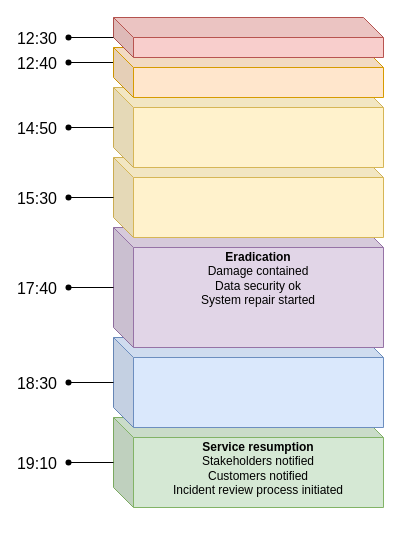
This 401x544 diagram has some shape labels left out. Each missing label, with the centre of its shape:
"Analysis Impact assessed Causes identified Customers notified" goes at point 248,197.
"Containment Data backed up SMEs consulted Stakeholders notified" goes at point 248,127.
"Incident occurs" goes at point 248,37.
"Incident verified Response teams activated" goes at point 248,72.
"Restoration Systems brought back up System integrity testing Data restored" goes at point 248,382.
